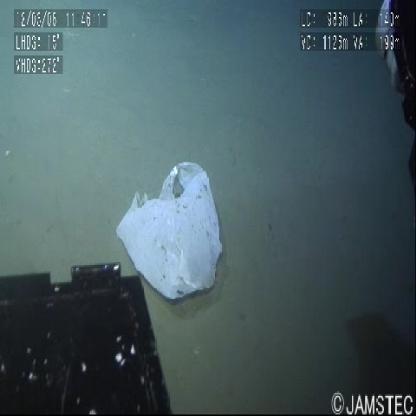Rov: (2, 248, 183, 416), (374, 3, 416, 166)
Rác: (107, 151, 236, 311)
